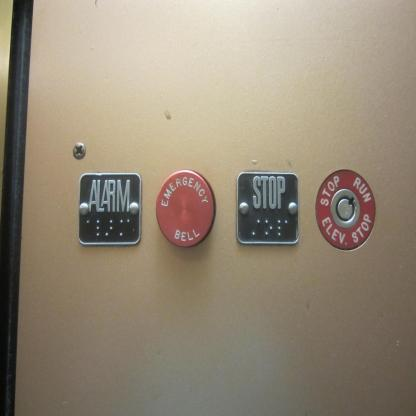keyhole: (310, 164, 378, 253)
text: (152, 168, 218, 252), (234, 168, 302, 248), (76, 169, 144, 248)
